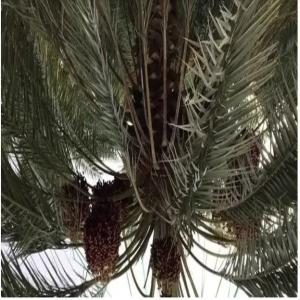palm tree: (1, 0, 297, 297)
